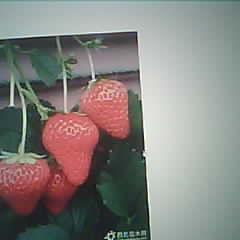straw-ripe: (44, 113, 98, 182), (0, 154, 48, 214), (81, 81, 130, 138)
